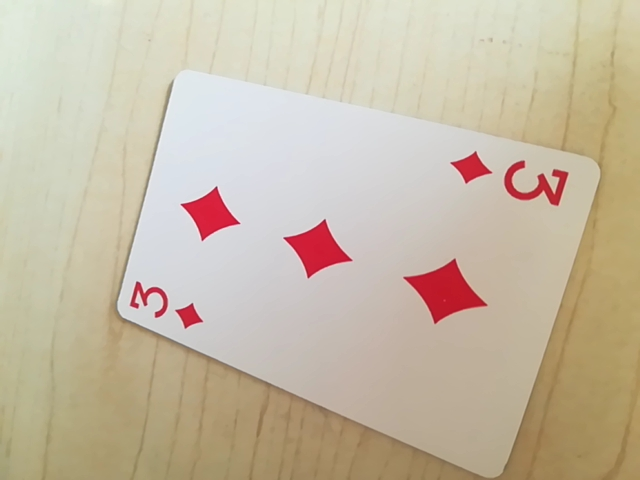fk 3: (449, 151, 570, 208), (122, 274, 206, 331)
